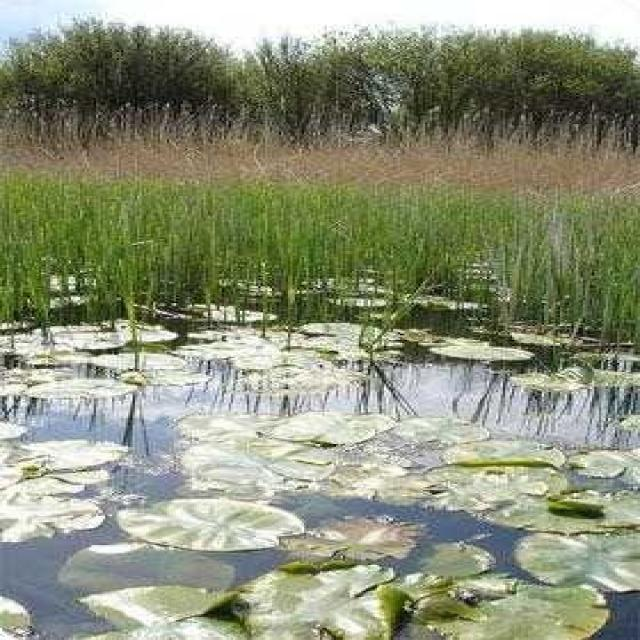Ponds: (1, 270, 640, 637)
